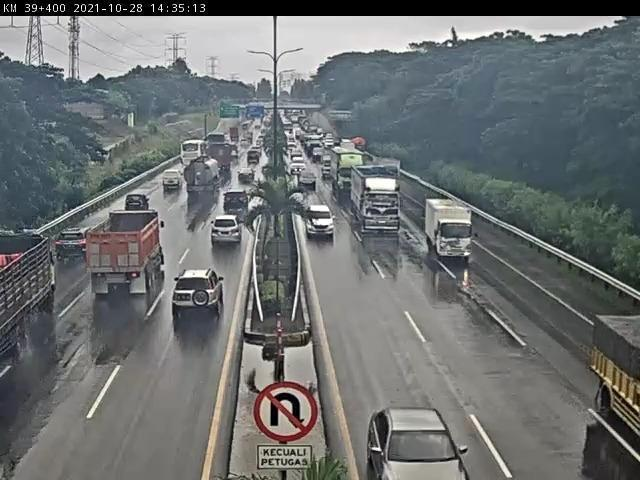bus: (179, 137, 201, 169)
car: (377, 402, 453, 476), (172, 282, 216, 334), (209, 222, 241, 250), (48, 235, 80, 263), (308, 198, 332, 234), (222, 193, 250, 215), (115, 196, 149, 212), (296, 168, 320, 190), (158, 171, 180, 195), (286, 160, 306, 176), (208, 129, 225, 147), (321, 155, 332, 179), (239, 168, 251, 186), (246, 150, 258, 166), (291, 148, 301, 160), (310, 148, 322, 156)
truck: (571, 306, 640, 417), (93, 216, 153, 300), (0, 244, 46, 344), (346, 163, 402, 235), (424, 198, 472, 262), (332, 148, 364, 190), (190, 154, 218, 198), (210, 145, 234, 175)
